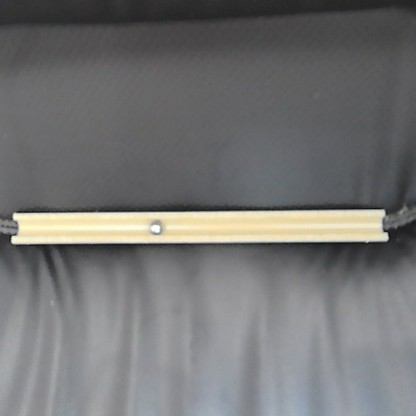ironball: (147, 218, 165, 236)
